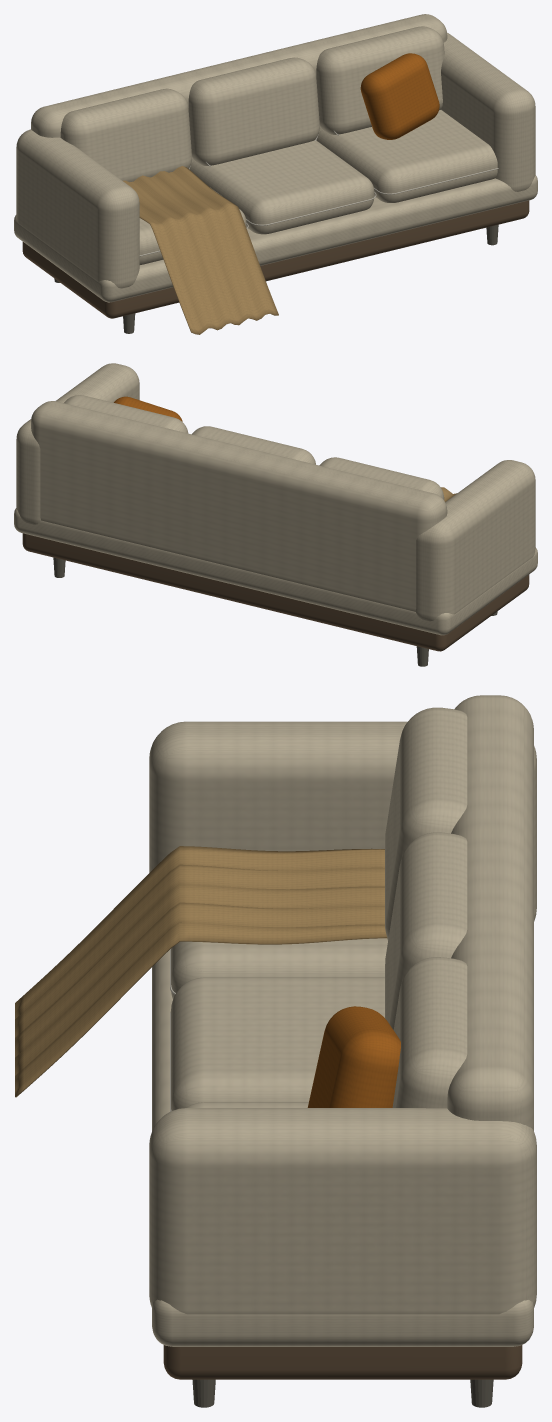
The model's file is atelier-sofa.glb.
3 views of the same model, one above another, from view 1: azimuth 30°, elevation 25°; view 2: azimuth 150°, elevation 25°; view 3: azimuth 270°, elevation 25° (orthographic). The views are drawn at different scales.
Visible parts, largest first — view 1: Hand-draped woven throw, Soft wrapped arm, Upholstered lower frame, Back cushion 1, Seat cushion 1, Seat cushion 2, Back cushion 0, Soft wrapped arm.001, Floating walnut plinth, Back cushion 2, Sculpted back frame, Ochre lumbar pillow (+1 smaller); view 2: Sculpted back frame, Soft wrapped arm, Upholstered lower frame, Floating walnut plinth, Soft wrapped arm.001, Back cushion 0, Back cushion 2, Back cushion 1, Ochre lumbar pillow; view 3: Soft wrapped arm.001, Hand-draped woven throw, Soft wrapped arm, Sculpted back frame, Seat cushion 1, Upholstered lower frame, Floating walnut plinth, Back cushion 0, Back cushion 1, Back cushion 2, Seat cushion 0, Ochre lumbar pillow.
Boxes of the visible parts, x1,y1,x2,y2 form: Hand-draped woven throw: [123, 166, 278, 334]; Soft wrapped arm: [16, 129, 139, 288]; Upholstered lower frame: [14, 175, 537, 302]; Back cushion 1: [188, 57, 319, 165]; Seat cushion 1: [189, 140, 374, 234]; Seat cushion 2: [316, 110, 497, 202]; Back cushion 0: [60, 88, 191, 181]; Soft wrapped arm.001: [441, 32, 535, 191]; Floating walnut plinth: [22, 200, 529, 318]; Back cushion 2: [316, 26, 444, 134]; Sculpted back frame: [31, 14, 447, 163]; Ochre lumbar pillow: [360, 53, 439, 139]; Sculpted back frame: [31, 401, 447, 611]; Soft wrapped arm: [416, 460, 535, 621]; Upholstered lower frame: [14, 508, 537, 635]; Floating walnut plinth: [22, 533, 529, 651]; Soft wrapped arm.001: [16, 363, 139, 524]; Back cushion 0: [319, 457, 444, 500]; Back cushion 2: [64, 395, 188, 433]; Back cushion 1: [192, 426, 315, 464]; Ochre lumbar pillow: [114, 396, 182, 421]; Soft wrapped arm.001: [149, 1108, 536, 1314]; Hand-draped woven throw: [15, 846, 387, 1097]; Soft wrapped arm: [149, 721, 536, 921]; Sculpted back frame: [447, 695, 533, 1130]; Seat cushion 1: [171, 977, 384, 1110]; Upholstered lower frame: [152, 950, 533, 1346]; Floating walnut plinth: [163, 1345, 522, 1379]; Back cushion 0: [385, 707, 467, 940]; Back cushion 1: [385, 832, 467, 1029]; Back cushion 2: [392, 957, 467, 1108]; Seat cushion 0: [171, 938, 387, 999]; Ochre lumbar pillow: [307, 1006, 400, 1107].
Bounding box in the file's own units: 3.48 × 1.32 × 1.8.
6 materials, 3 textured.
